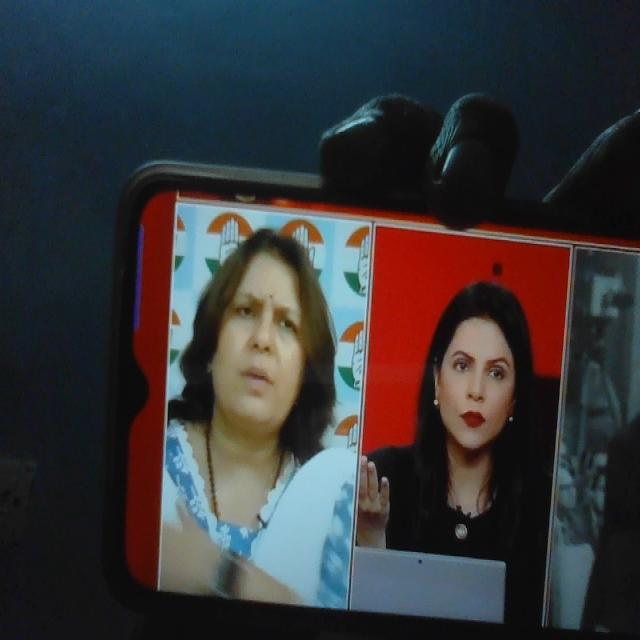fake: (200, 209, 323, 443), (428, 268, 533, 467)
